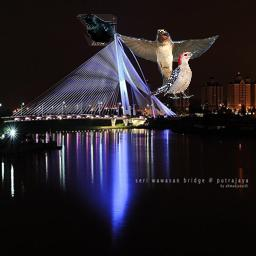Crow: (77, 14, 117, 46)
Swallow: (113, 29, 219, 88)
Woodpecker: (145, 49, 199, 99)
